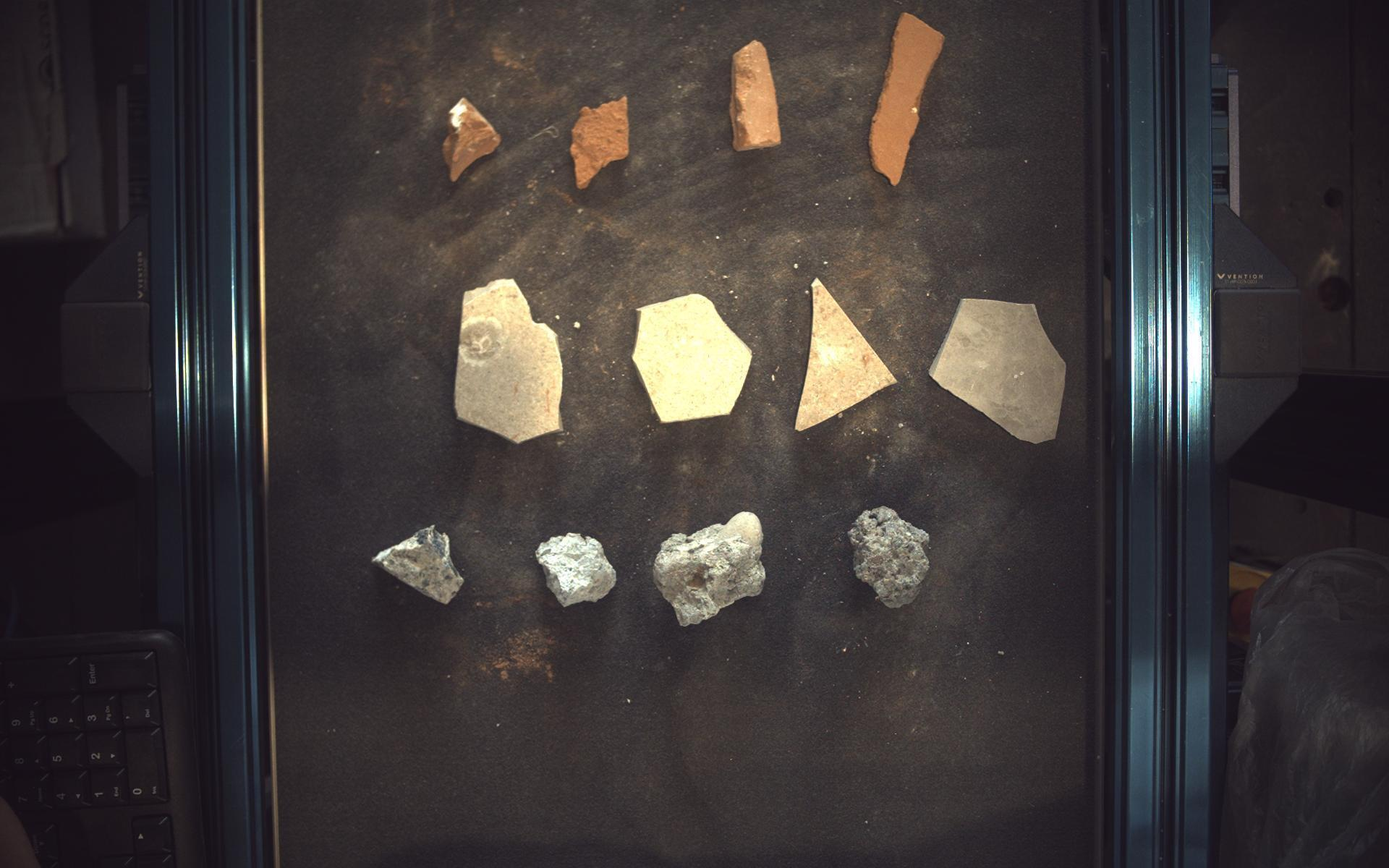brick: (871, 12, 946, 184), (731, 39, 783, 150), (571, 95, 629, 188), (443, 96, 501, 181)
concrete: (655, 513, 767, 627), (850, 506, 932, 610), (372, 527, 463, 605), (536, 533, 617, 607)
tile: (932, 299, 1069, 443), (454, 278, 563, 443), (797, 278, 898, 431), (634, 293, 752, 423)
